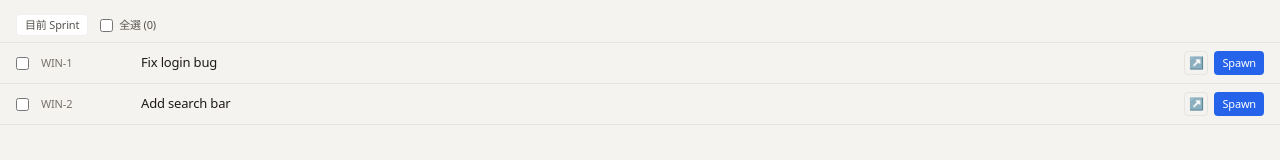
Test case: IssuePanel › sprint toggle switches label to '所有 Issues' after click
Check: the text "WIN-1" is shown, box left=41, top=55, right=72, bottom=70
What coordinates should you click on to do the following:
click the button "目前 Sprint"
I would click on:
 (52, 25)
Its box is left=16, top=14, right=88, bottom=36.
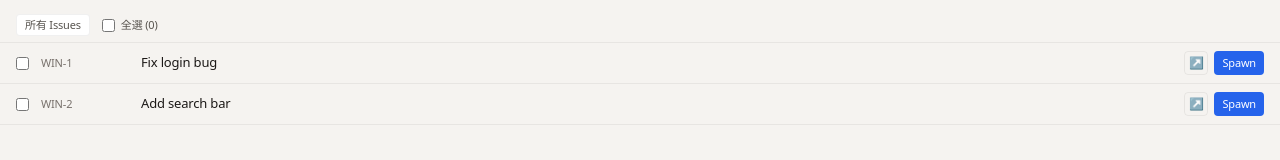
Check: the button "所有 Issues" is shown, box left=16, top=14, right=90, bottom=36
